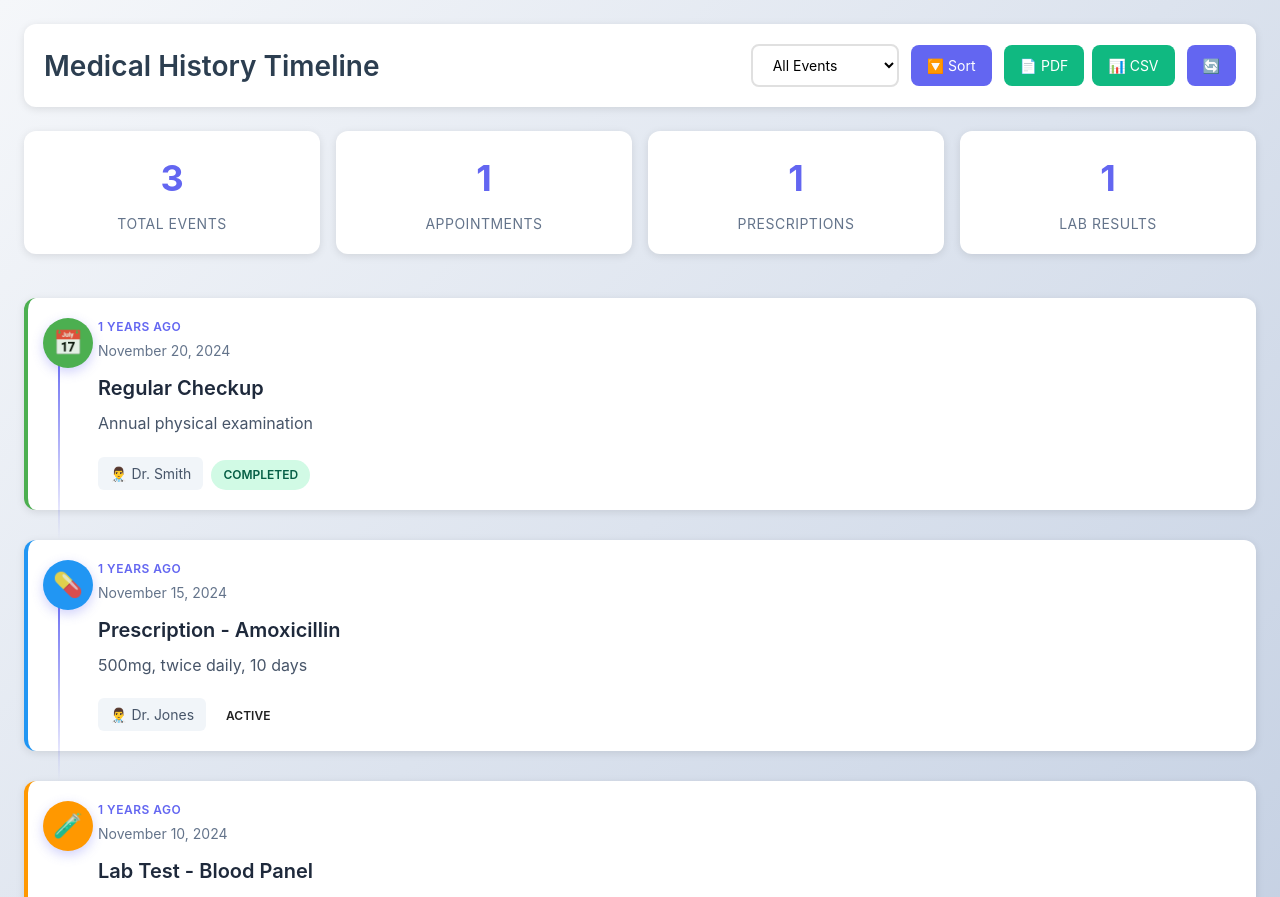
Test case: MedicalHistoryTimeline › filters events by type
Expected: the heading "Regular Checkup" is shown, [98,376,264,400]
Step 1. Select "Prescriptions" in the dropdown → [825, 66], box [751,44,899,87]
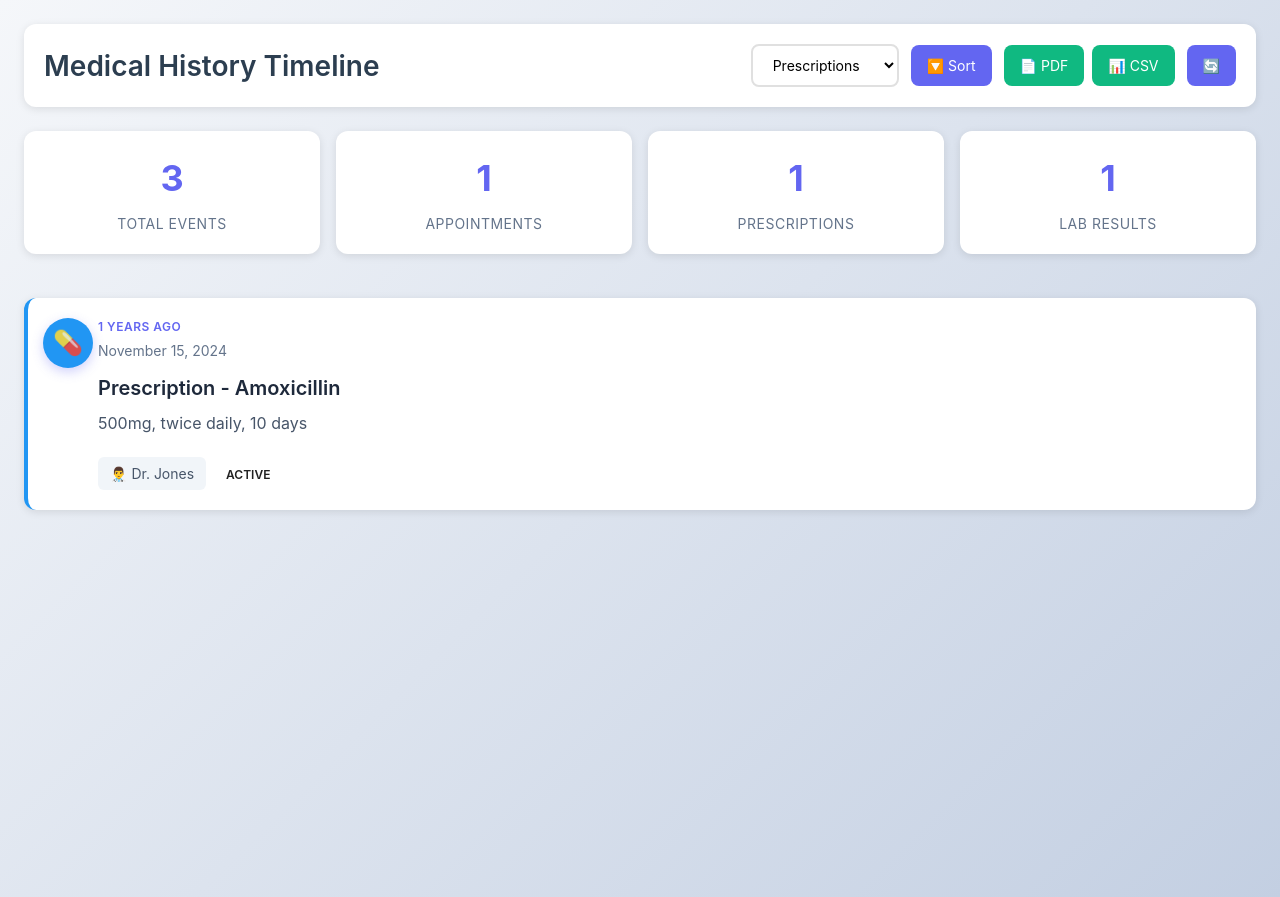
Expected: the heading "Prescription - Amoxicillin" is shown, [98,376,340,400]
Expected: the heading "Regular Checkup" is gone
